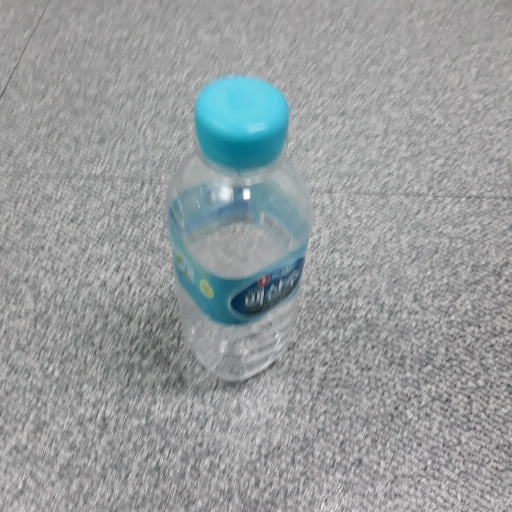Plastic_0: (167, 75, 310, 385)
